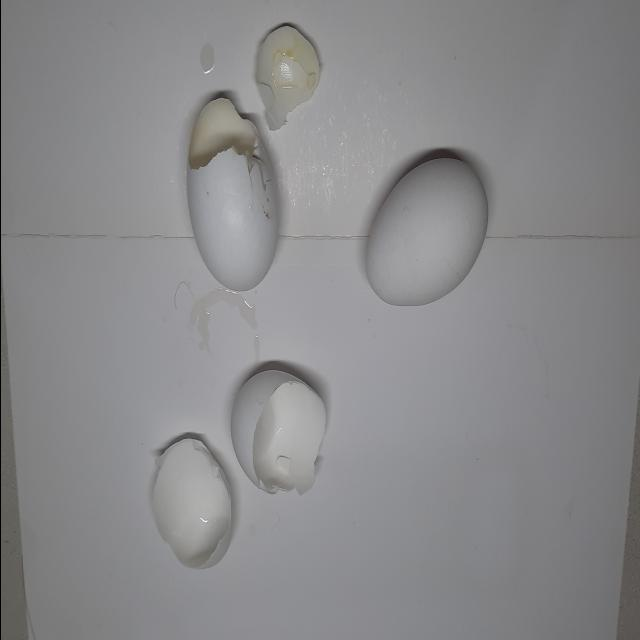egg shell: (182, 20, 322, 295), (148, 368, 326, 574), (363, 156, 489, 309), (228, 368, 328, 498), (148, 438, 234, 572)
